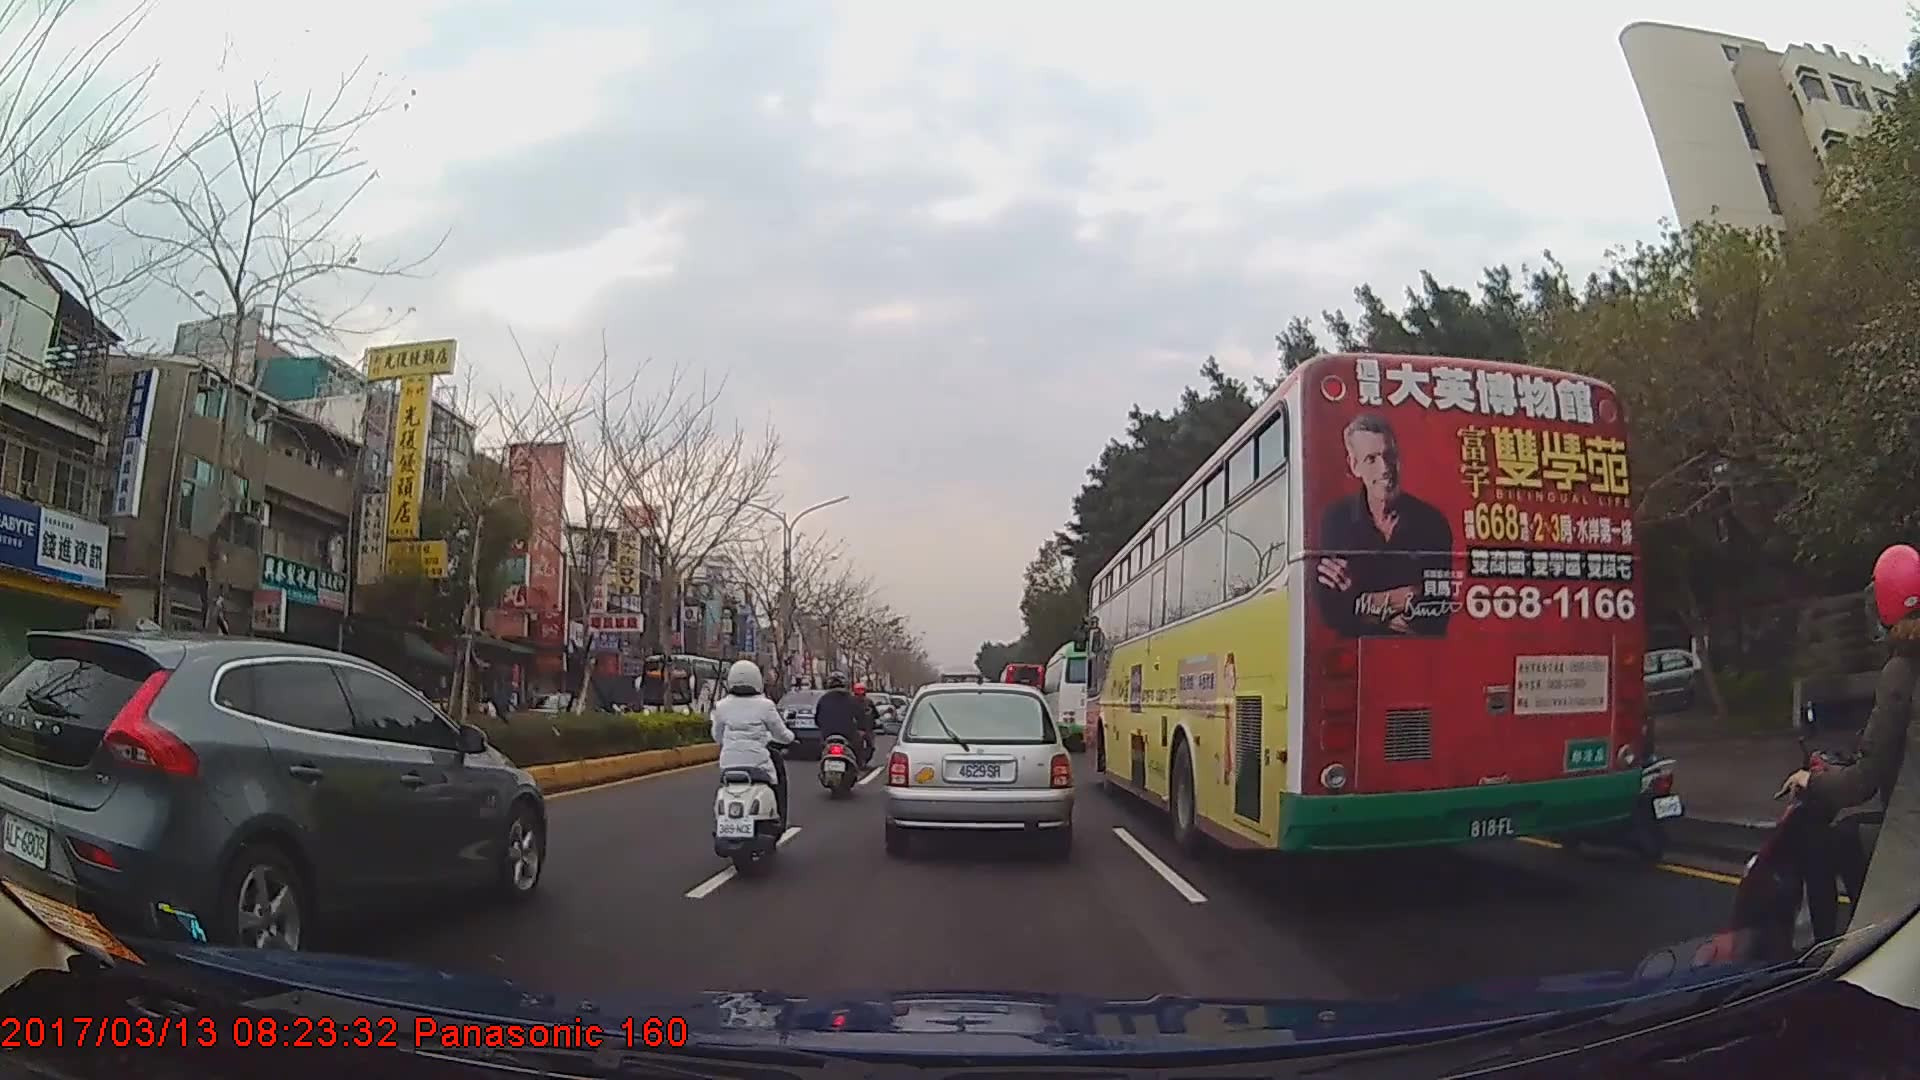rider: (1731, 542, 1920, 1005), (1559, 636, 1687, 872), (709, 656, 797, 872), (812, 674, 866, 798), (846, 680, 881, 769)
vehicle: (1087, 349, 1646, 863), (0, 631, 546, 970), (886, 680, 1072, 854), (1040, 641, 1124, 748), (635, 653, 730, 732), (774, 690, 870, 763), (998, 657, 1046, 729), (512, 690, 588, 735)
